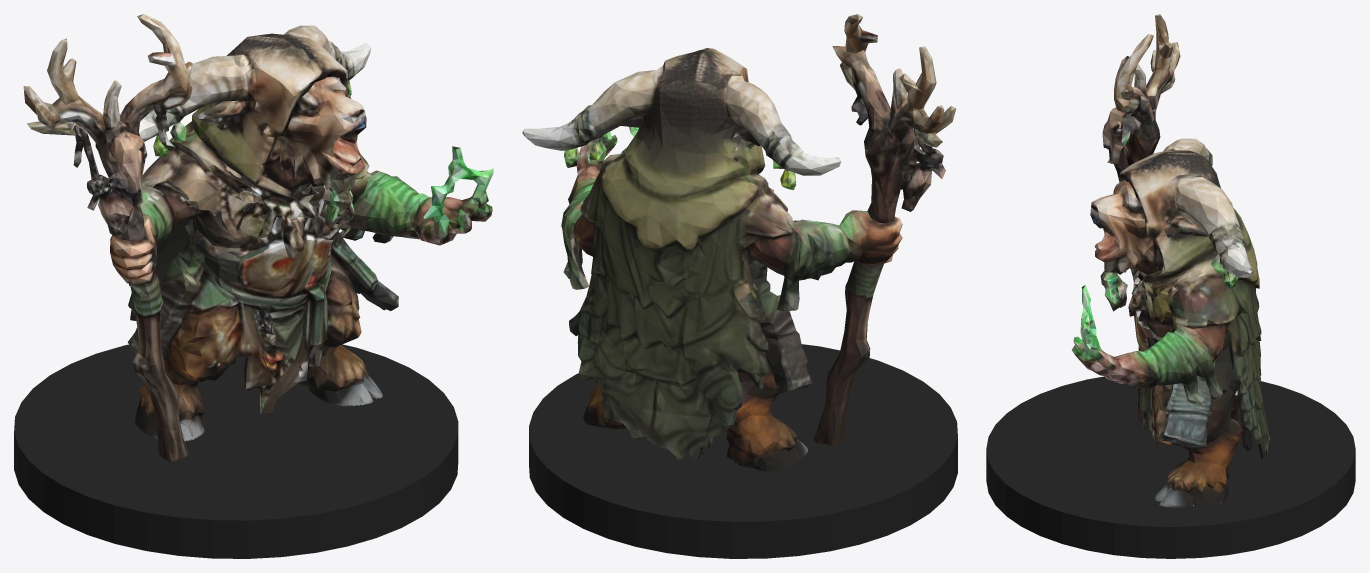
Rendered from fg-shaman.glb.
3 views of the same model, side by side, from view 1: azimuth 30°, elevation 25°; view 2: azimuth 150°, elevation 25°; view 3: azimuth 270°, elevation 25° (orthographic). The views are drawn at different scales.
Parts seen in each view (by area): view 1: figure, base; view 2: figure, base; view 3: figure, base.
Boxes of the visible parts, box(x1,y1,x2,y2) form: figure: box(23, 14, 493, 461); base: box(14, 344, 458, 558); figure: box(522, 14, 956, 471); base: box(529, 344, 957, 558); figure: box(1072, 14, 1270, 507); base: box(986, 376, 1355, 558).
Bounding box in the file's own units: 1.37 × 1.52 × 1.26.
Materials: 2 (1 with a texture image).
